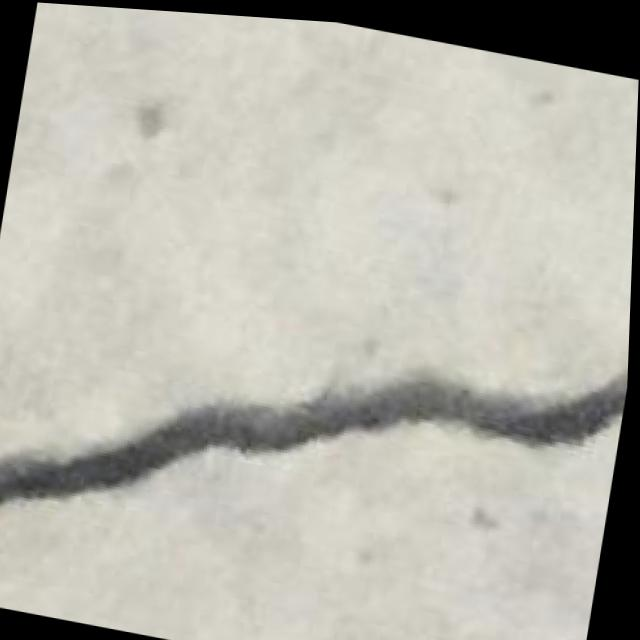Crack: (0, 243, 633, 635)
